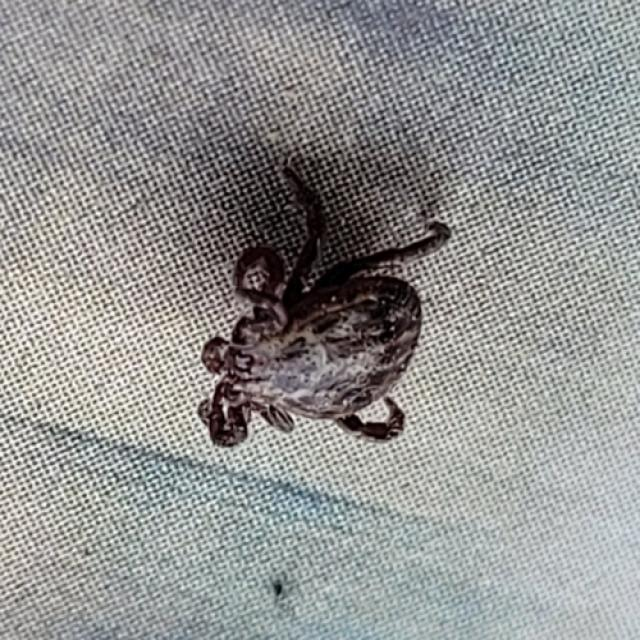Dermacentor Reticulatus-M: (197, 166, 451, 448)
